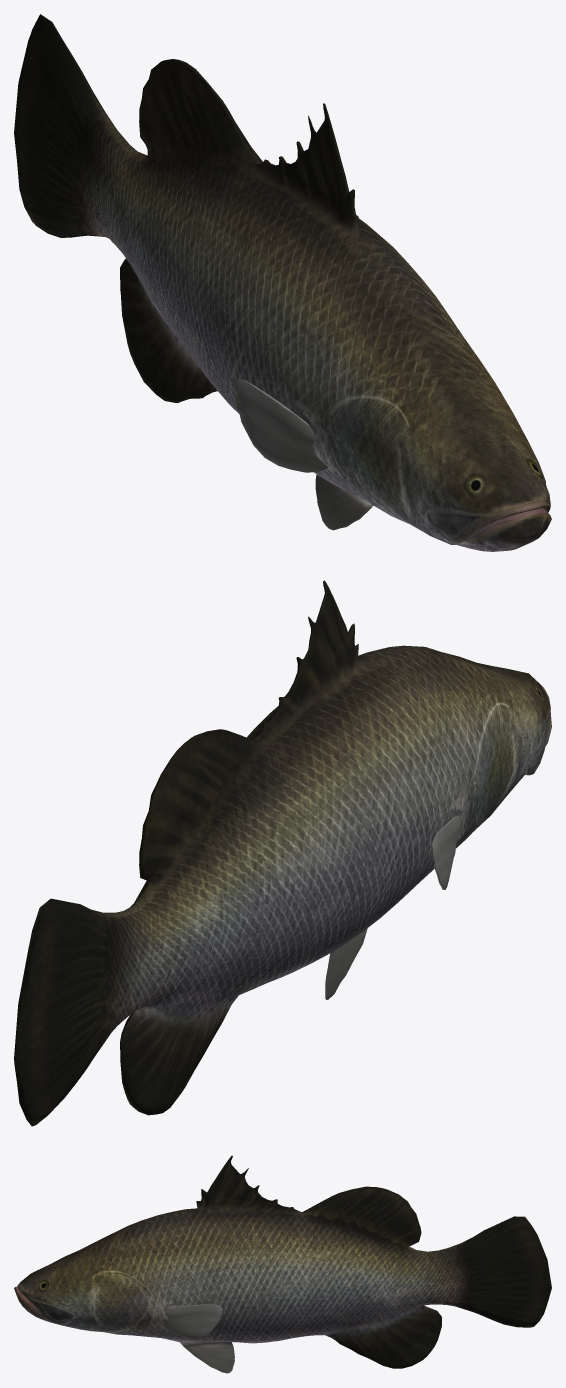
Rendered from BarramundiFish.dae.
The picture shows the model from 3 angles, top to bottom: view 1: azimuth 30°, elevation 25°; view 2: azimuth 150°, elevation 25°; view 3: azimuth 270°, elevation 25°; orthographic projection. The views are drawn at different scales.
Parts seen in each view (by area): view 1: barramundi_fish_Hero; view 2: barramundi_fish_Hero; view 3: barramundi_fish_Hero.
Part boxes in pixels (x1,y1,x2,y2): barramundi_fish_Hero: [14, 14, 551, 551]; barramundi_fish_Hero: [14, 580, 551, 1126]; barramundi_fish_Hero: [14, 1155, 551, 1373].
Size of what is drawn, in the model's own units: 14.29 by 28.75 by 64.31.
1 material, 1 textured.
